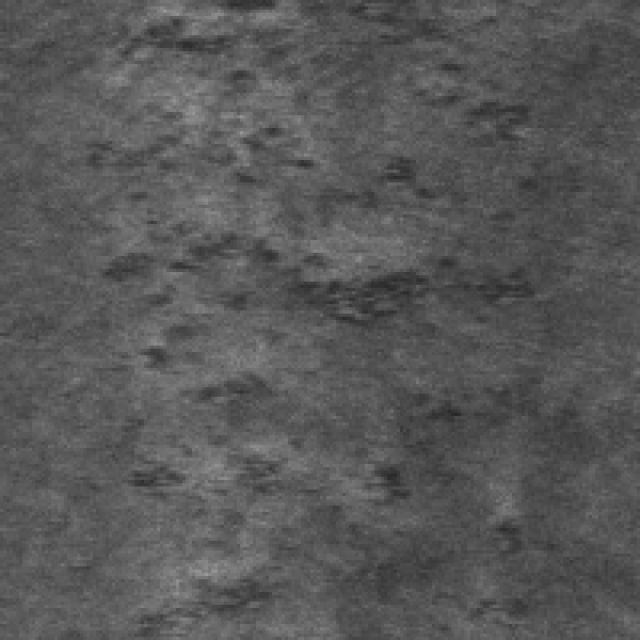rolled-in_scale: (138, 192, 515, 608), (96, 0, 531, 182)
